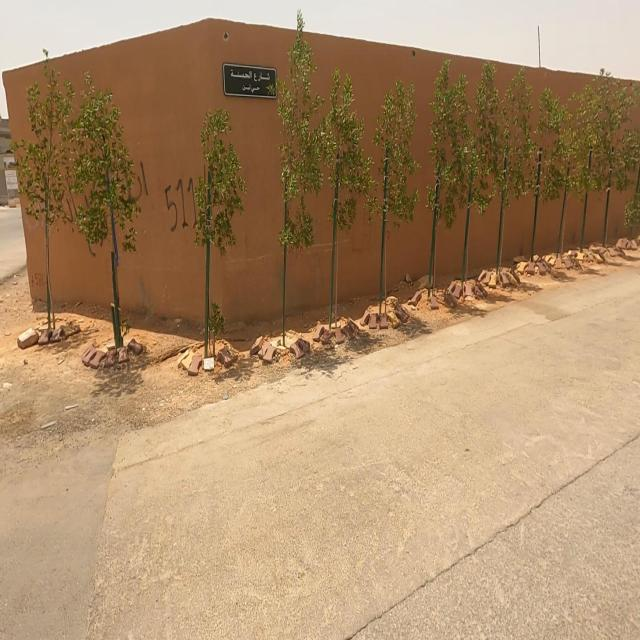Graffiti: (163, 178, 198, 231), (123, 161, 149, 222), (30, 267, 47, 293)
